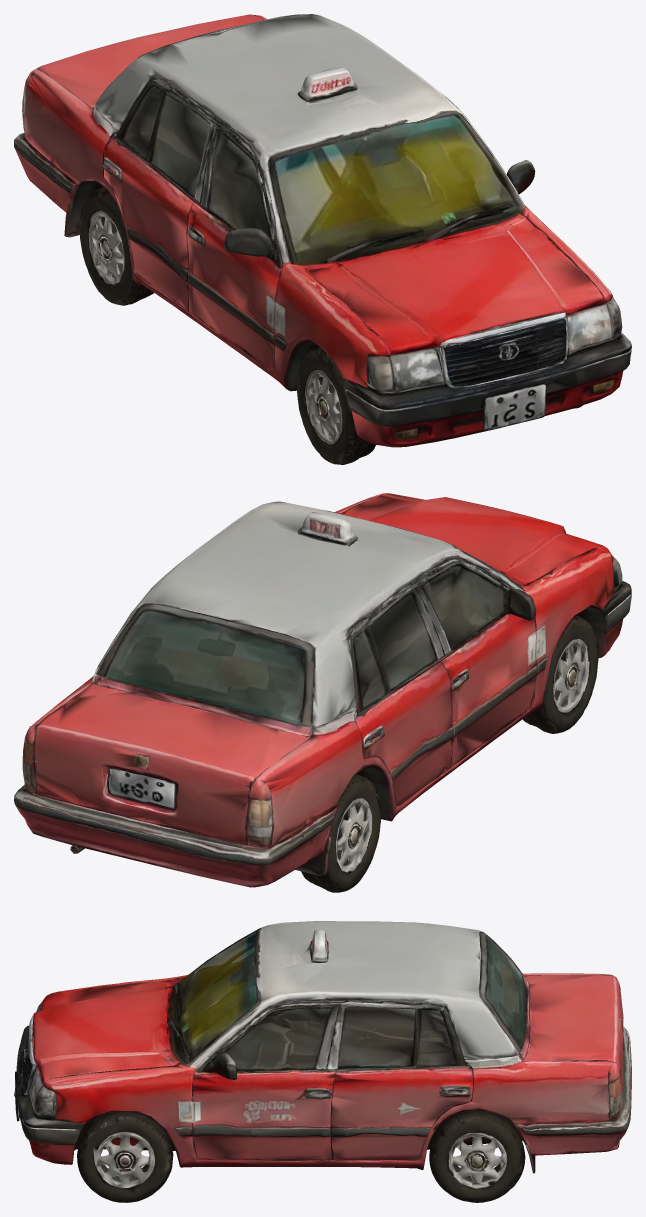
Rendered from taxi.glb.
3 views of the same model, one above another, from view 1: azimuth 30°, elevation 25°; view 2: azimuth 150°, elevation 25°; view 3: azimuth 270°, elevation 25° (orthographic). The views are drawn at different scales.
Parts seen in each view (by area): view 1: tripo_node_01c276b2-5789-43d0-9911-2f1ab2a11937; view 2: tripo_node_01c276b2-5789-43d0-9911-2f1ab2a11937; view 3: tripo_node_01c276b2-5789-43d0-9911-2f1ab2a11937.
Part boxes in pixels (bbox=[...]): tripo_node_01c276b2-5789-43d0-9911-2f1ab2a11937: bbox=[14, 14, 631, 464]; tripo_node_01c276b2-5789-43d0-9911-2f1ab2a11937: bbox=[14, 493, 631, 892]; tripo_node_01c276b2-5789-43d0-9911-2f1ab2a11937: bbox=[14, 921, 631, 1202].
Bounding box in the file's own units: 0.4544 × 0.3873 × 0.9808.
1 material, 1 textured.
